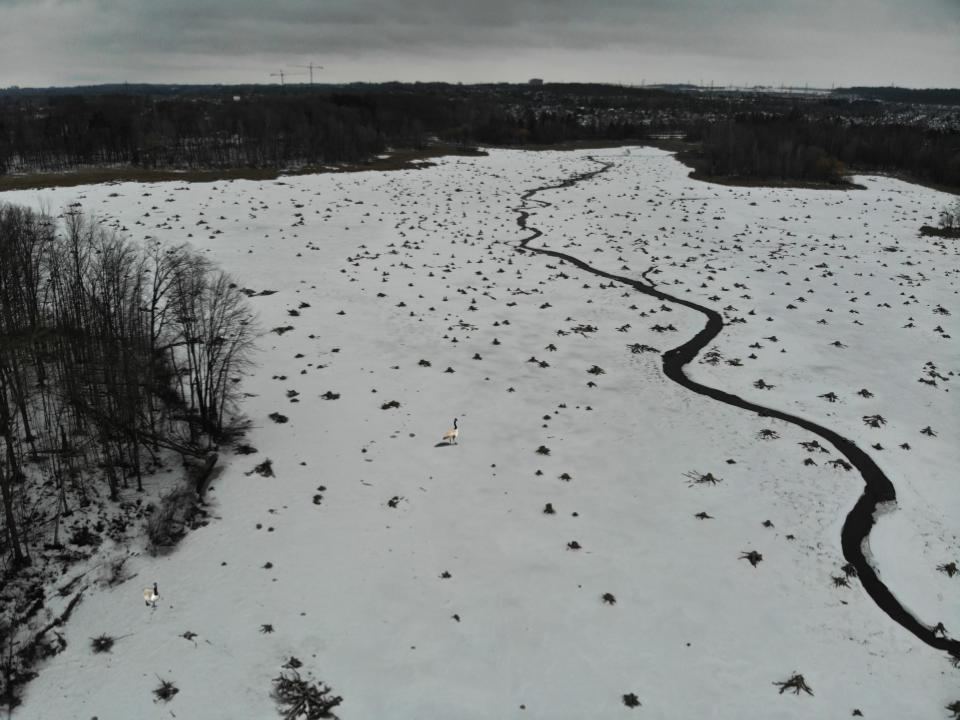goose: (439, 413, 461, 449), (140, 579, 165, 609)
